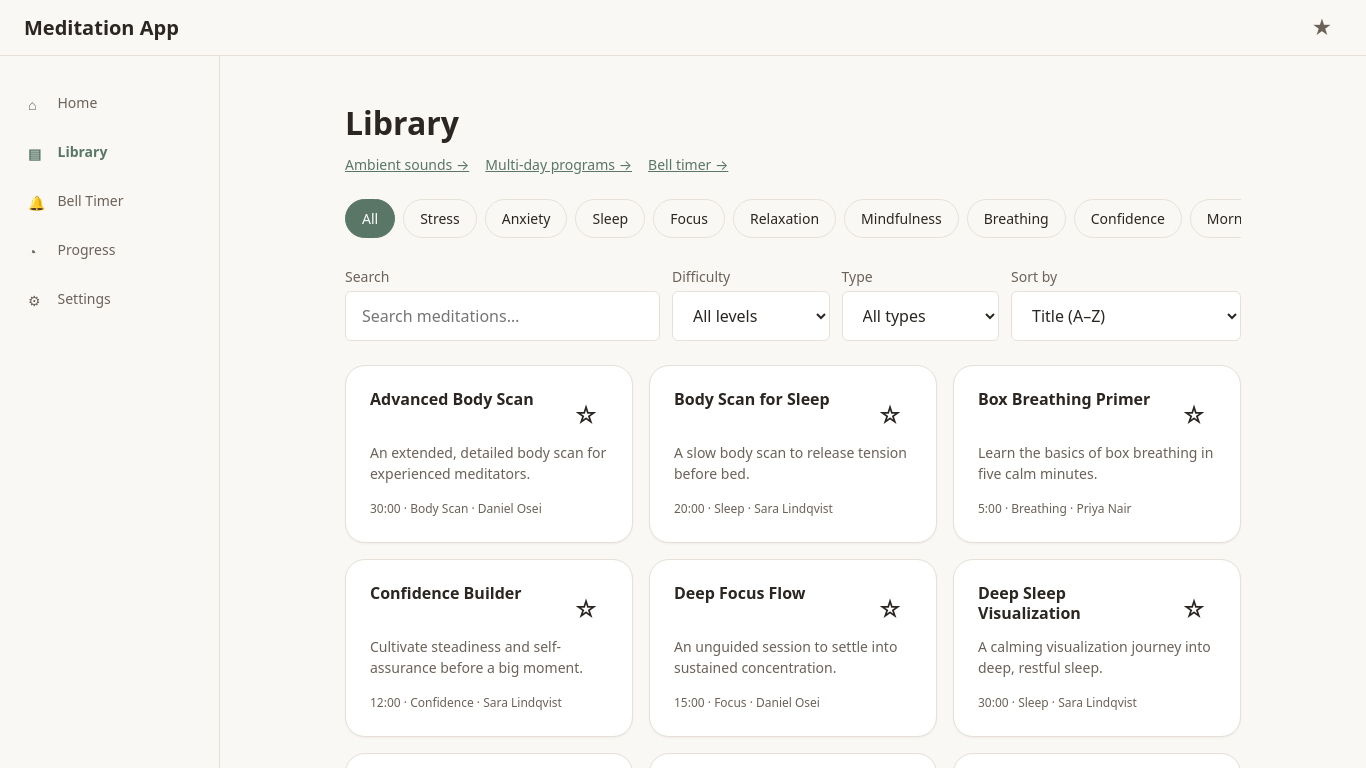
it: App shell routing › favoriting a meditation in the library shows it on the Favorites page
The width and height of the screenshot is (1366, 768).
In the search field labelled "Search": (502, 316) x1=345 y1=291 x2=660 y2=341, type "Morning Calm"
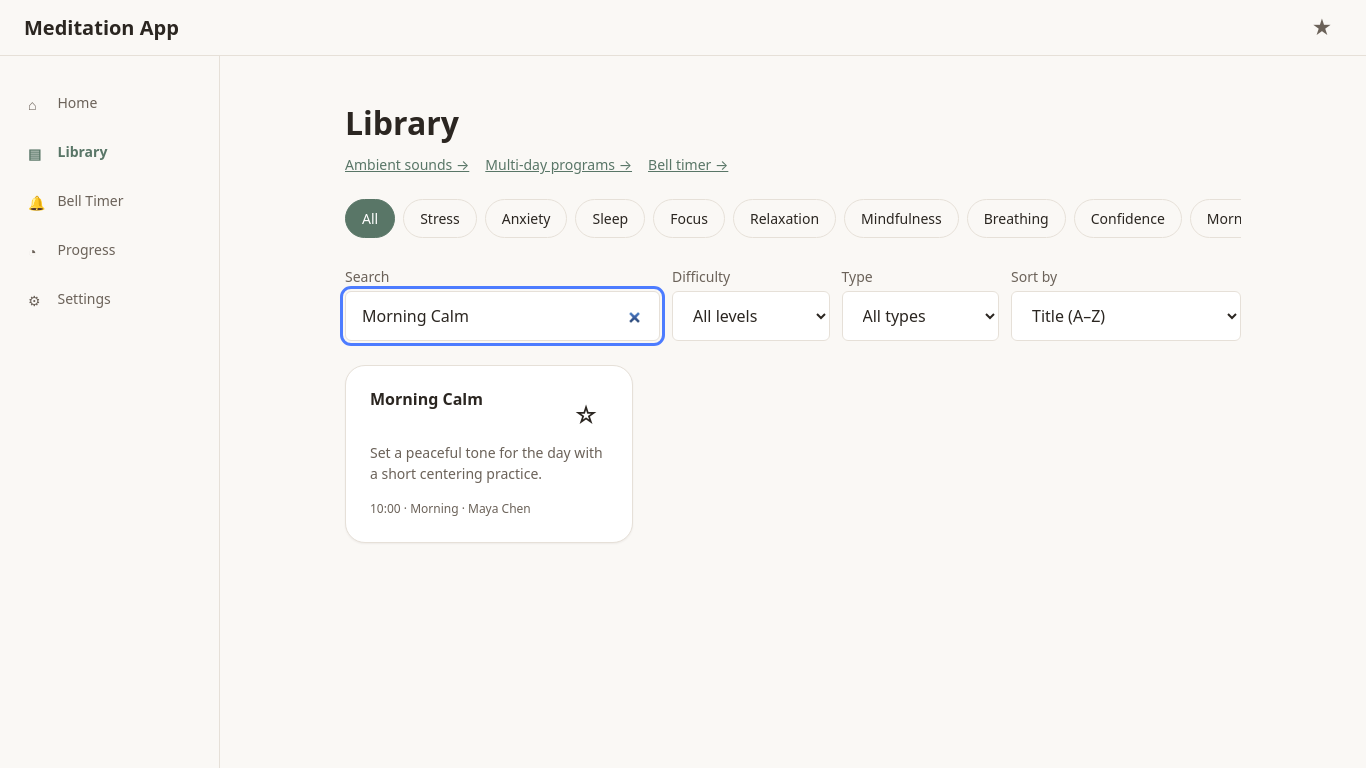
Click the button named "Add to favorites": (586, 412) x1=564 y1=390 x2=608 y2=434
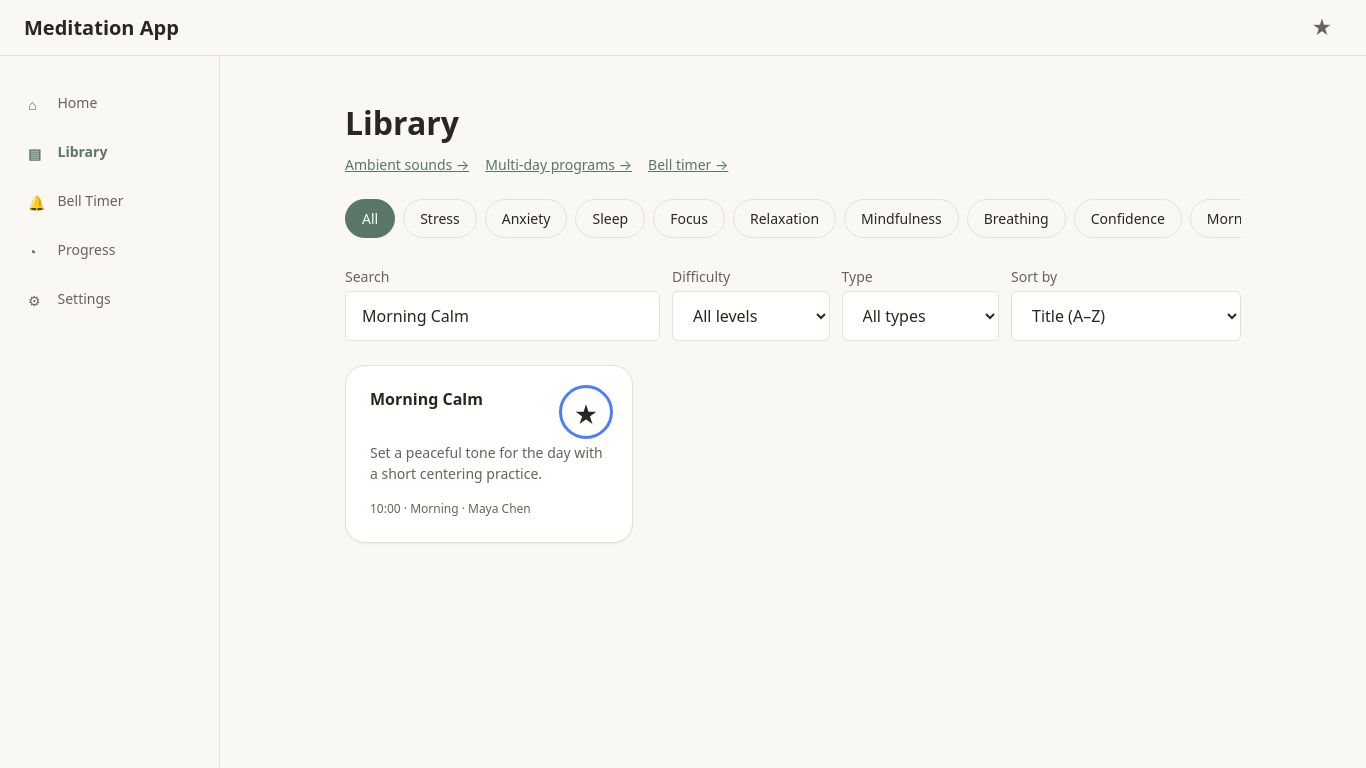
Click the link named "Favorites": (1322, 27) x1=1312 y1=14 x2=1332 y2=40
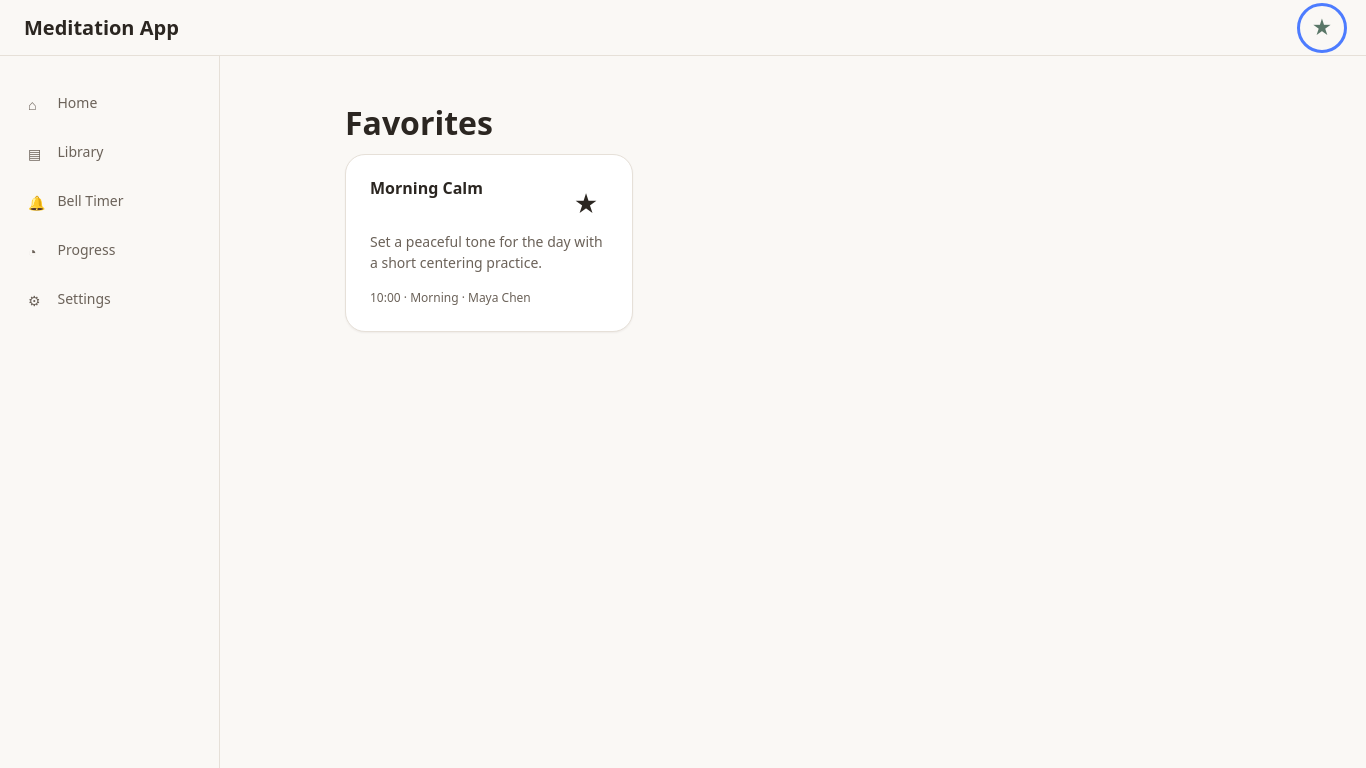
Expected: the link "Morning Calm" is shown, x1=370 y1=177 x2=483 y2=199
Expected: the heading "Favorites" is shown, x1=345 y1=101 x2=493 y2=144
